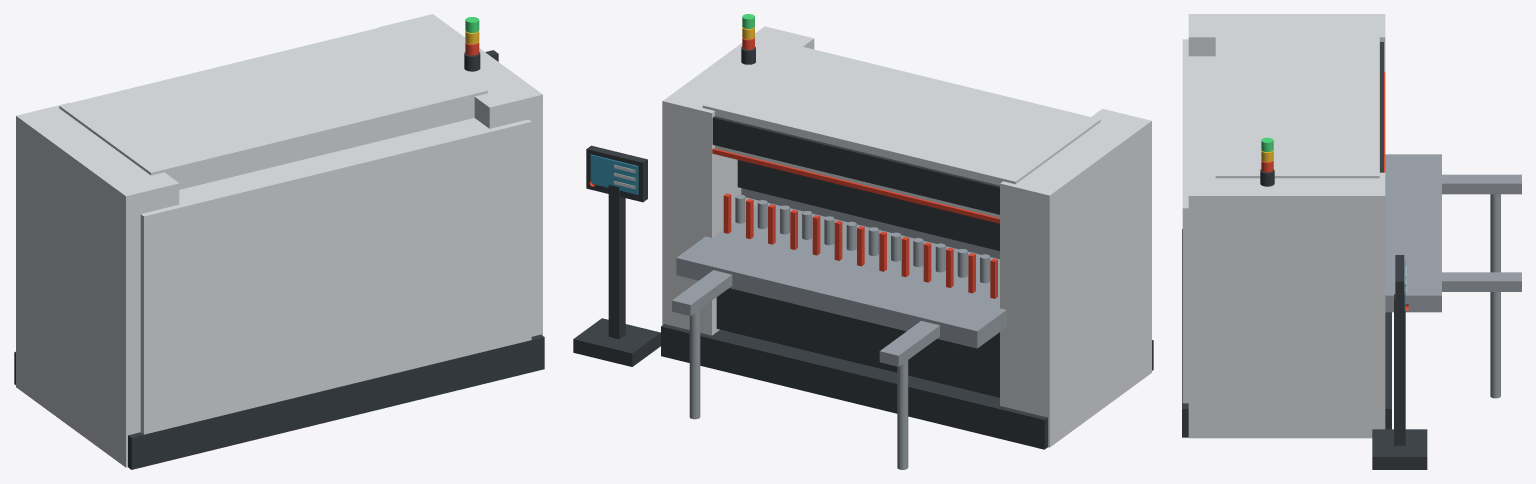
The model's file is Cutter_Guillotine.glb.
3 renders of one model, left to right at view 1: azimuth 30°, elevation 25°; view 2: azimuth 150°, elevation 25°; view 3: azimuth 270°, elevation 25°, orthographic. The views are drawn at different scales.
Parts seen in each view (by area): view 1: BackHousing, SideFrame (×2), Header, Base; view 2: SideFrame (×2), Header, WorkTable, Base, FrontApron, Fascia, BladeCarrier, SheetSupport (×2), HMI_Post, HMI_Foot, SupportFoot (×2), CuttingEdge (+3 smaller); view 3: SideFrame (×2), Header, WorkTable, BackHousing, SheetSupport (×2), HMI_Foot, SupportFoot (×2), HMI_Post, Base, HMI_Frame, Fascia.
Part boxes in pixels (x1,y1,x2,y2): BackHousing: (140, 118, 531, 434); SideFrame (×2): (16, 14, 542, 467); Header: (59, 23, 487, 189); Base: (14, 334, 544, 469); SideFrame (×2): (662, 26, 1151, 447); Header: (702, 43, 1100, 217); WorkTable: (676, 203, 1006, 348); Base: (661, 324, 1153, 449); FrontApron: (716, 288, 999, 397); Fascia: (712, 116, 999, 214); BladeCarrier: (737, 160, 999, 250); SheetSupport (×2): (672, 270, 939, 366); HMI_Post: (608, 185, 625, 339); HMI_Foot: (573, 318, 660, 366); SupportFoot (×2): (689, 309, 908, 469); CuttingEdge: (741, 188, 999, 259); SideFrame (×2): (1188, 14, 1385, 438); Header: (1215, 29, 1379, 178); WorkTable: (1379, 154, 1441, 312); BackHousing: (1182, 39, 1215, 403); SheetSupport (×2): (1442, 174, 1521, 291); HMI_Foot: (1372, 429, 1427, 469); SupportFoot (×2): (1490, 194, 1500, 398); HMI_Post: (1394, 294, 1405, 445); Base: (1182, 229, 1391, 437); HMI_Frame: (1395, 255, 1404, 319); Fascia: (1380, 42, 1383, 172).
Bounding box in the file's own units: 3.85 × 2.41 × 2.59.
